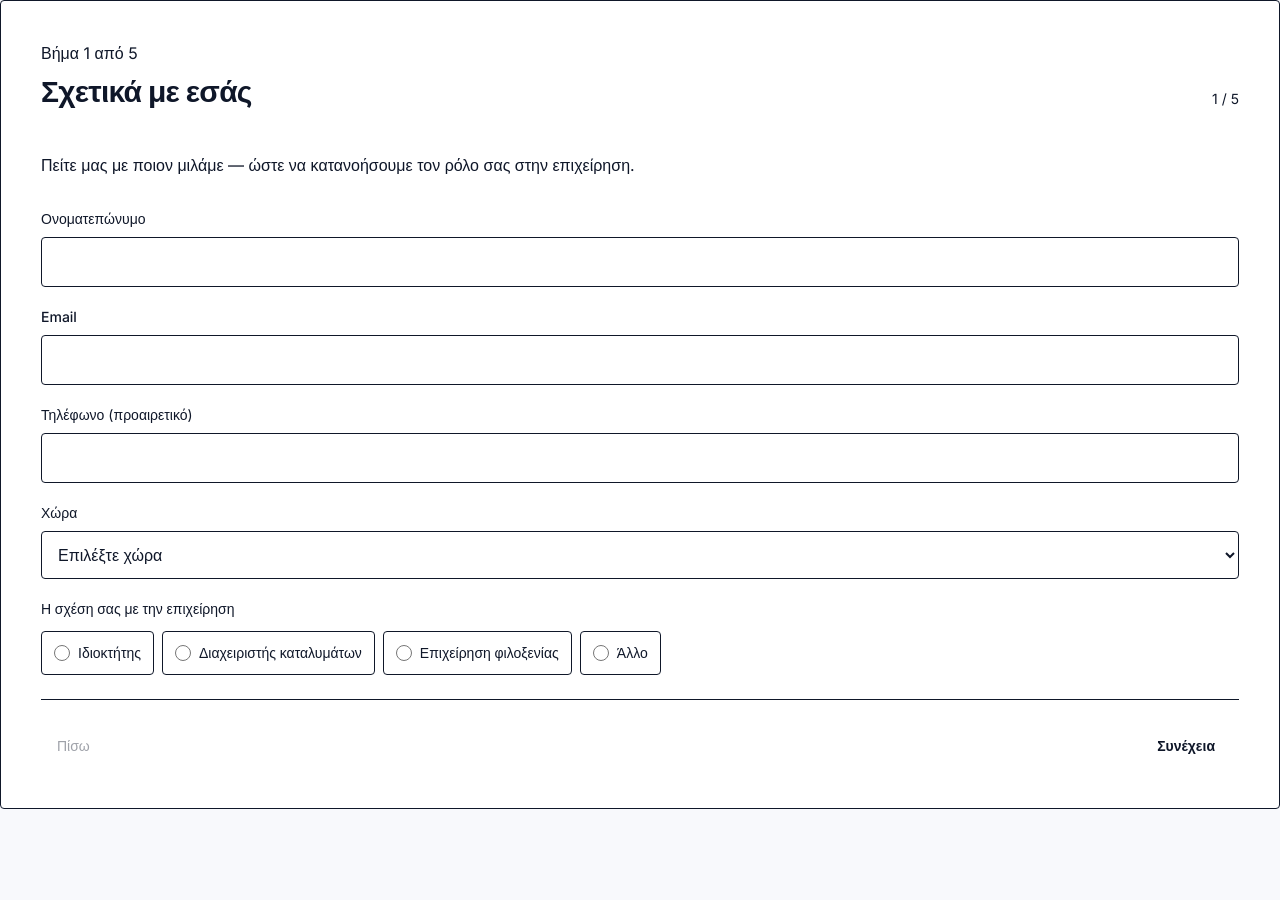
Scenario: GetStartedWizard › advances on valid Next and preserves values on Back
Type "Ada Owner" into the field labelled "Ονοματεπώνυμο" at (640, 262), box x1=41 y1=237 x2=1239 y2=287
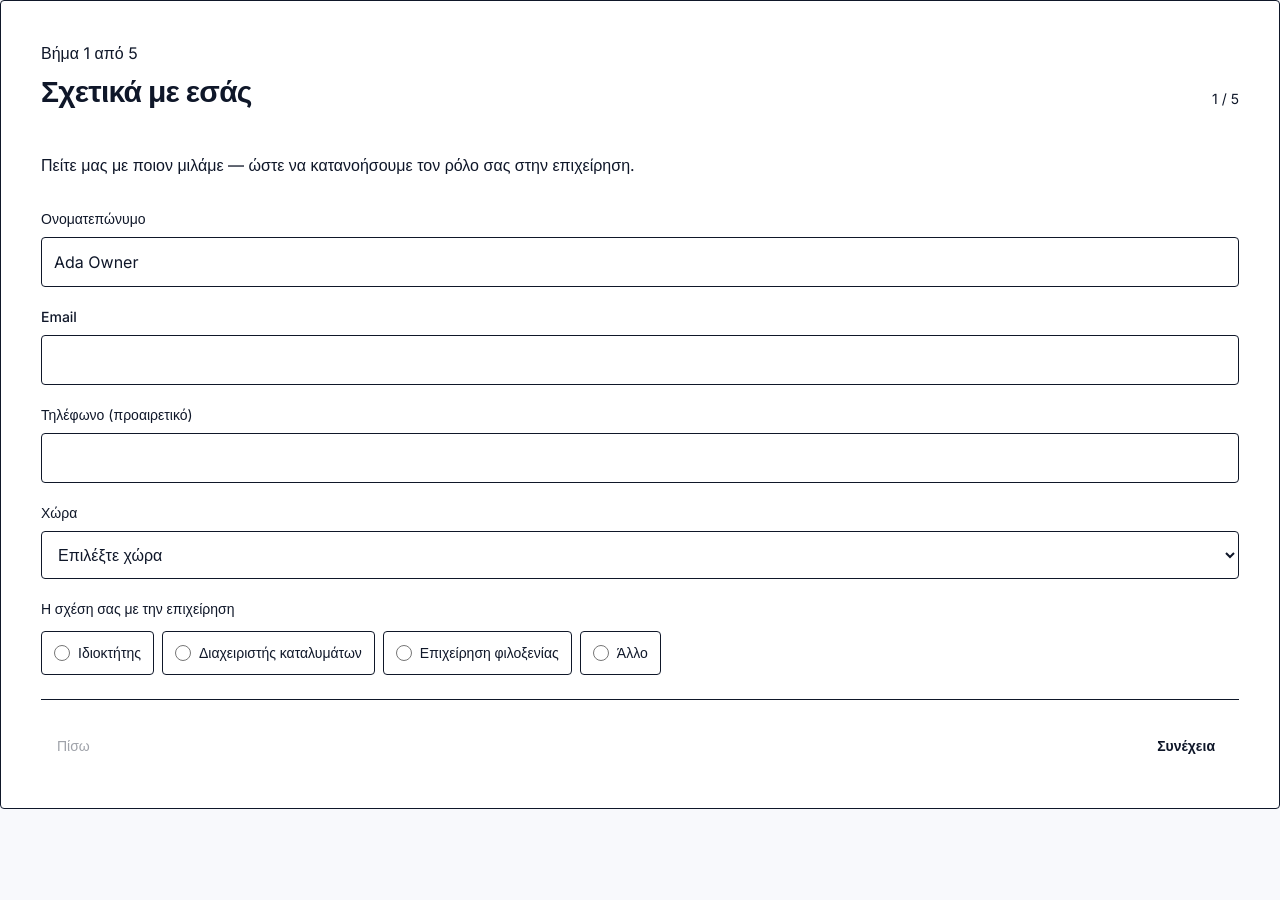
Type "ada@example.com" into the field labelled "Email" at (640, 360), box x1=41 y1=335 x2=1239 y2=385
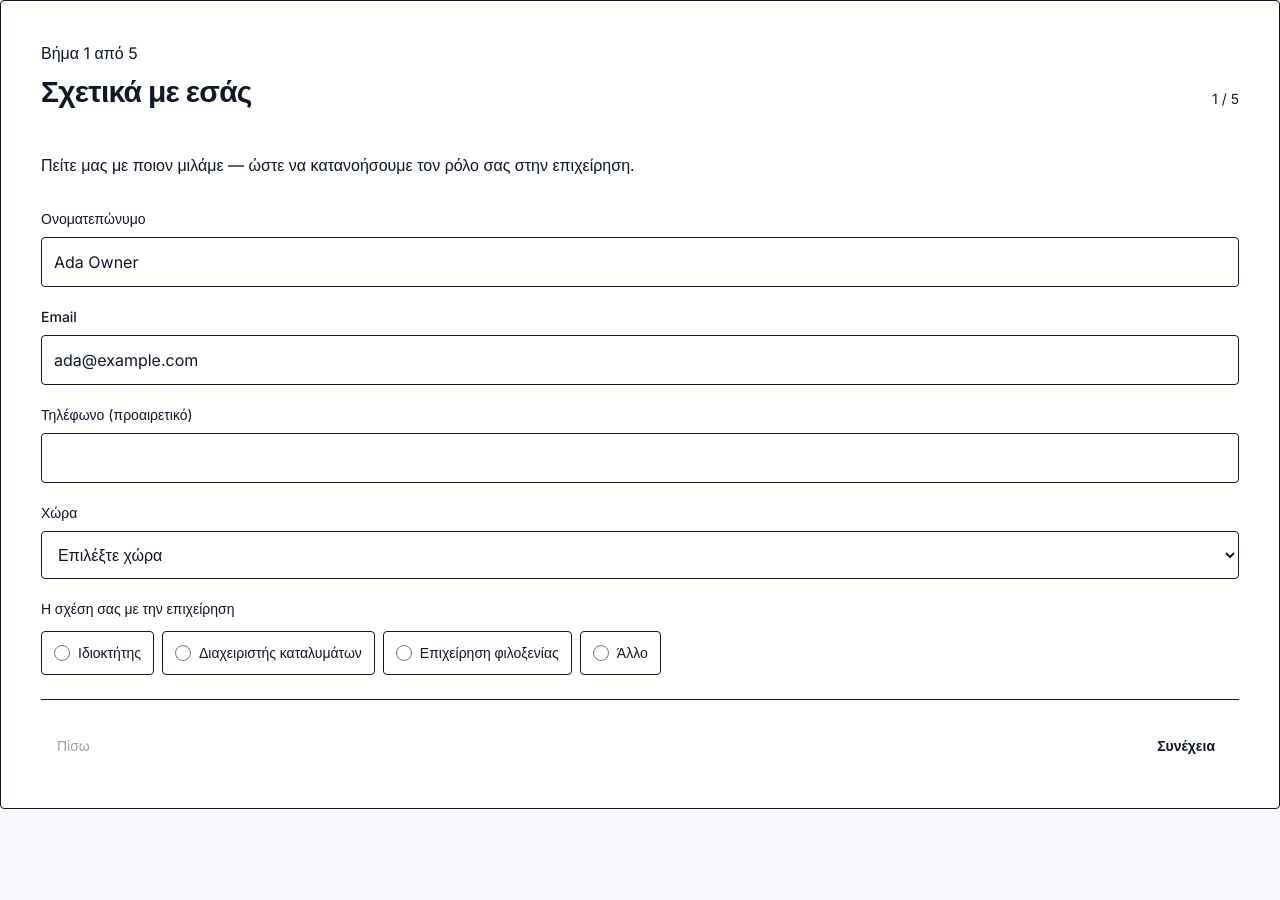
Select "Greece" in the dropdown labelled "Χώρα" at (640, 555), box x1=41 y1=531 x2=1239 y2=579
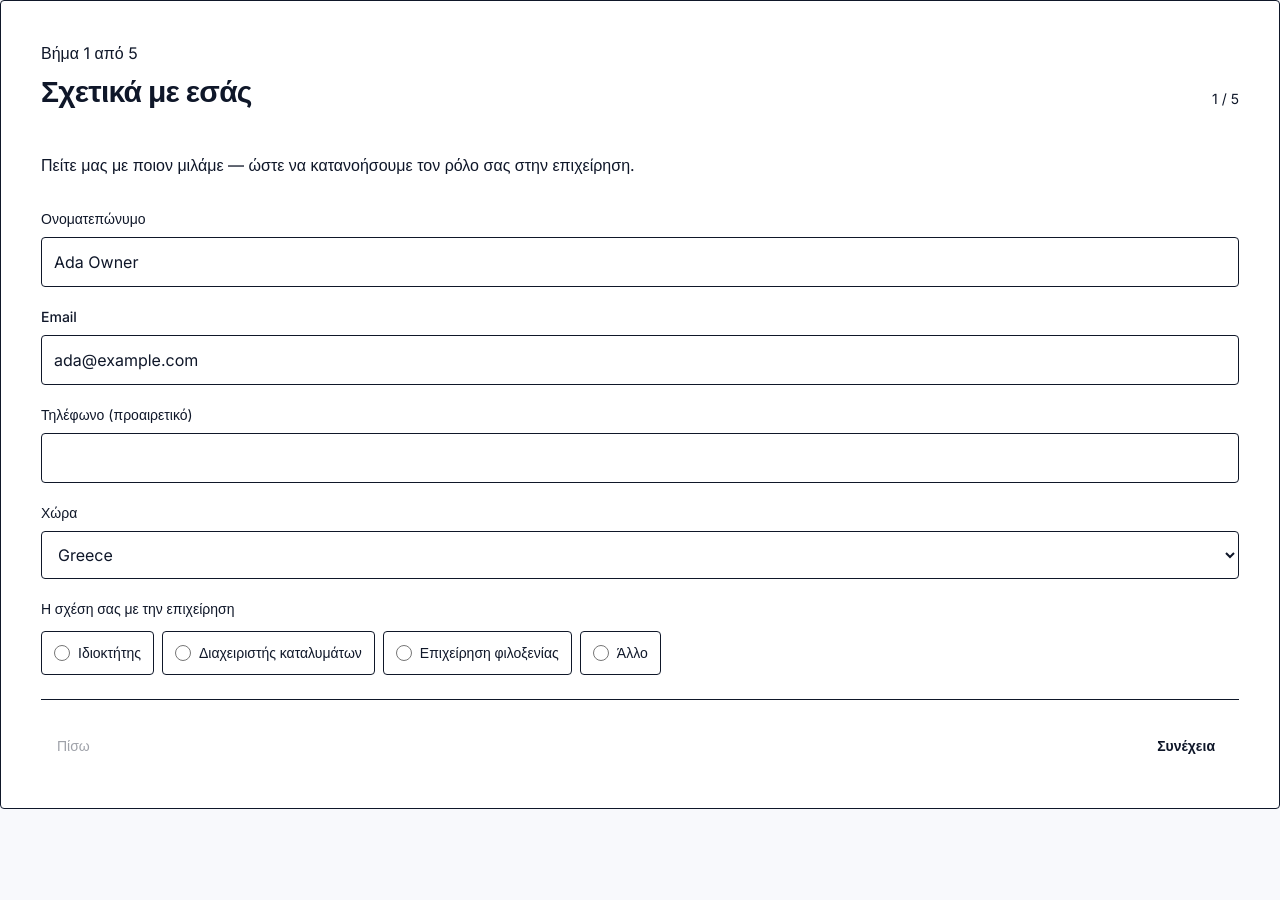
Click the radio button labelled "Ιδιοκτήτης" at (62, 653), box x1=54 y1=645 x2=70 y2=661
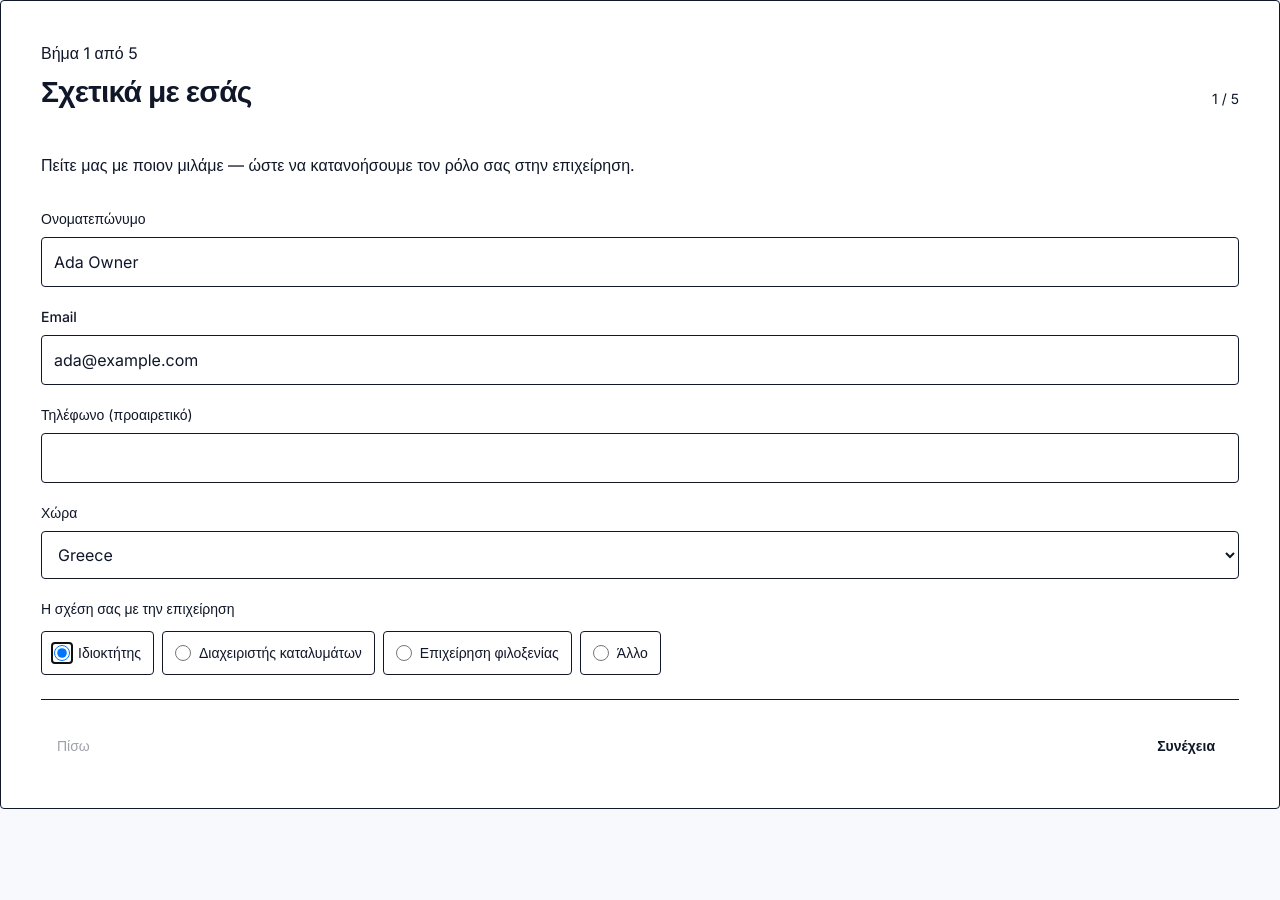
Click the button "Συνέχεια" at (1186, 746), box x1=1133 y1=724 x2=1239 y2=768
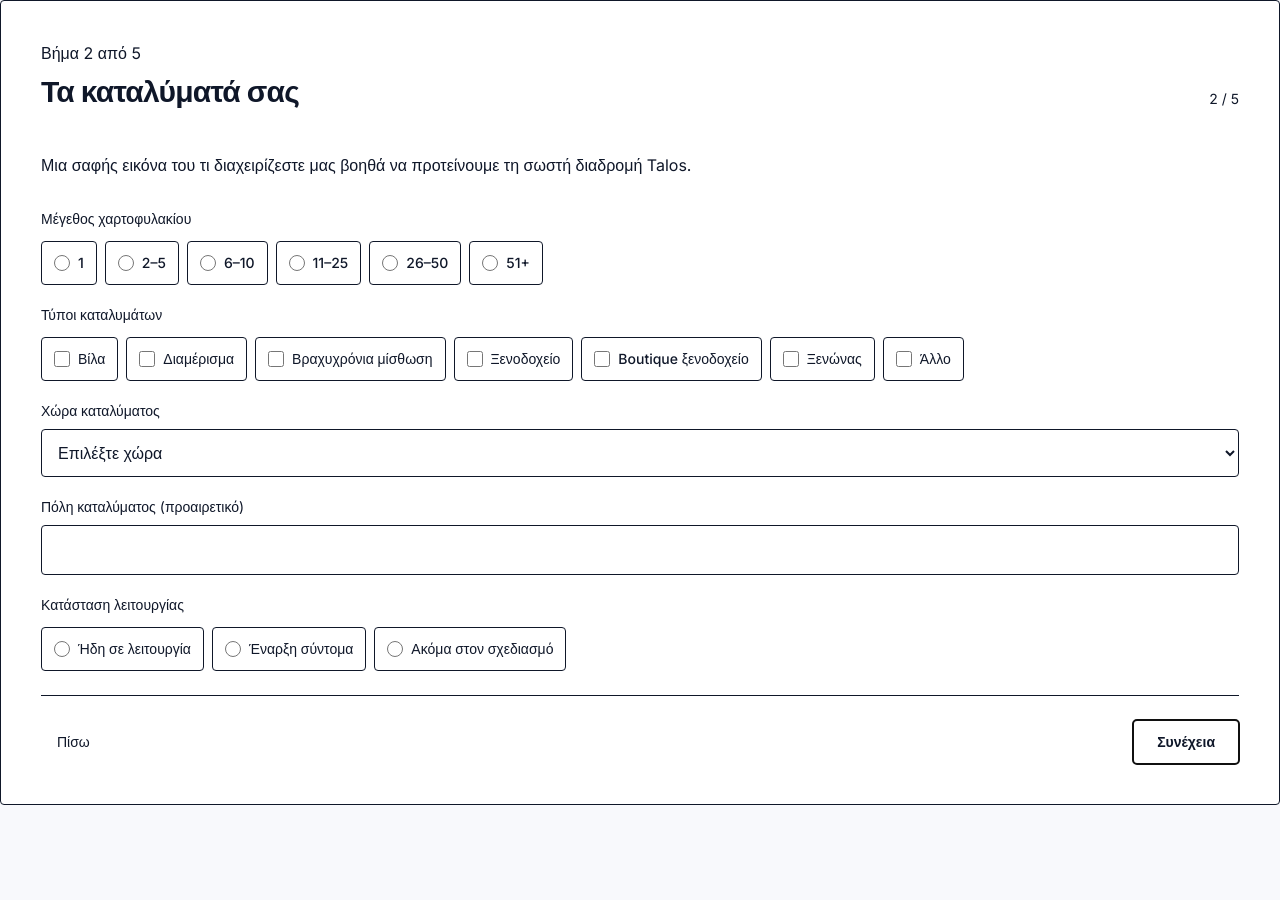
expect the text "Βήμα 2 από 5" is shown: met, box x1=41 y1=43 x2=141 y2=63
Click the button "Πίσω" at (73, 742), box x1=41 y1=720 x2=106 y2=764
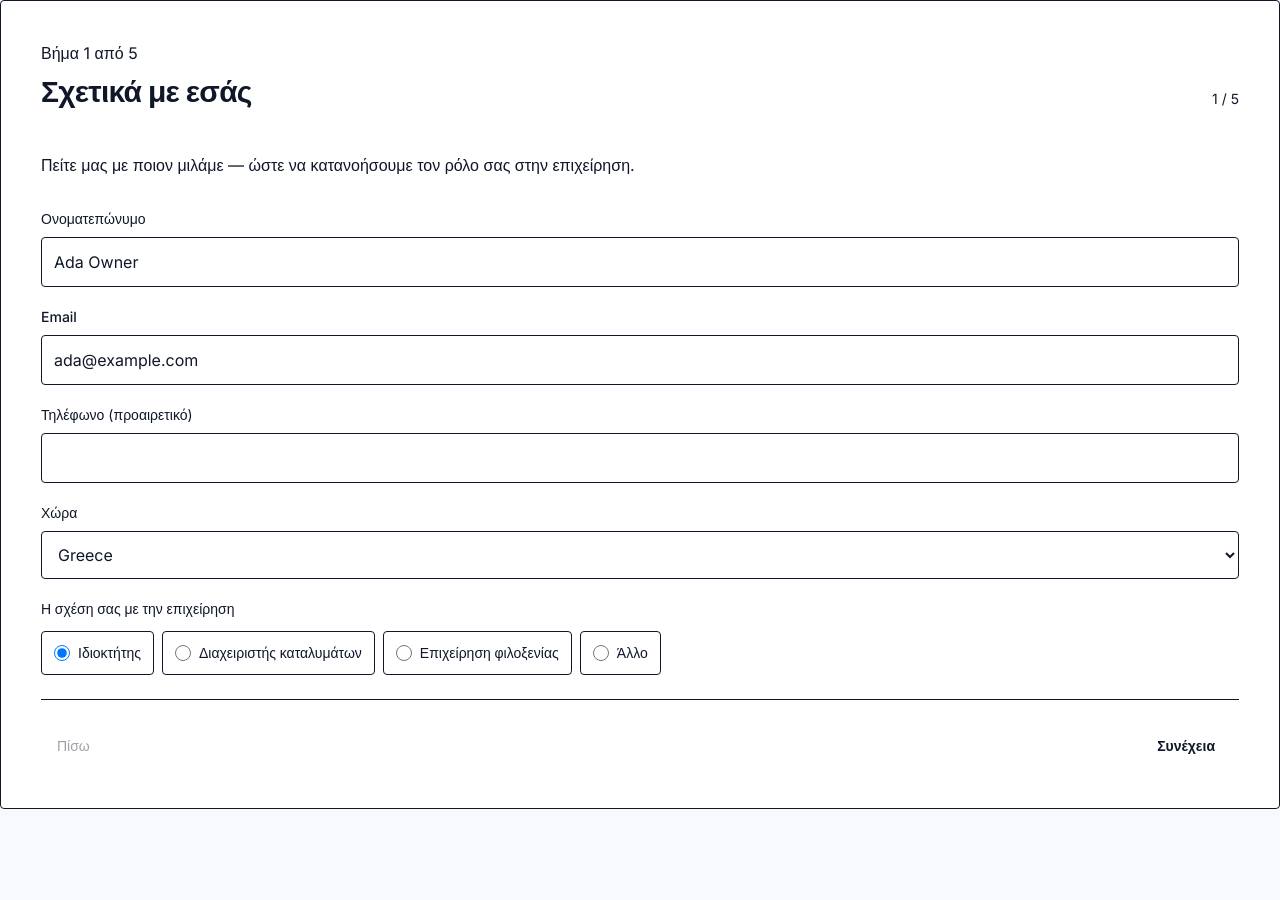
expect the field labelled "Ονοματεπώνυμο" holds "Ada Owner": met, box x1=41 y1=237 x2=1239 y2=287
expect the field labelled "Email" holds "ada@example.com": met, box x1=41 y1=335 x2=1239 y2=385
